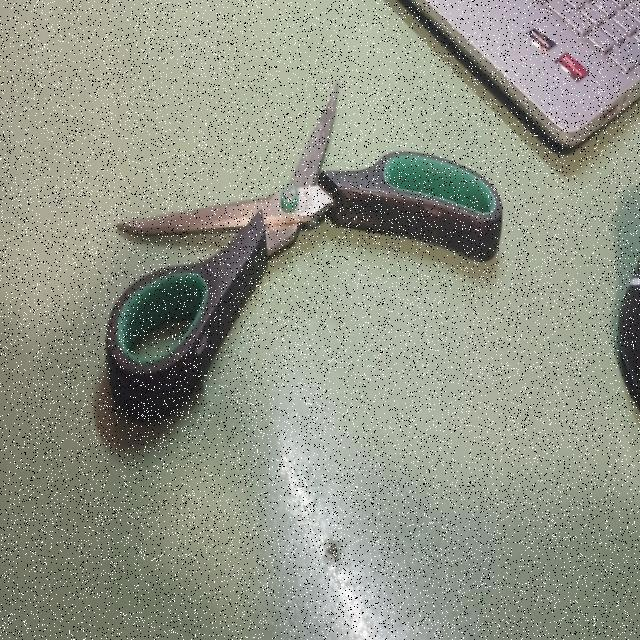scissors: (102, 68, 507, 424)
